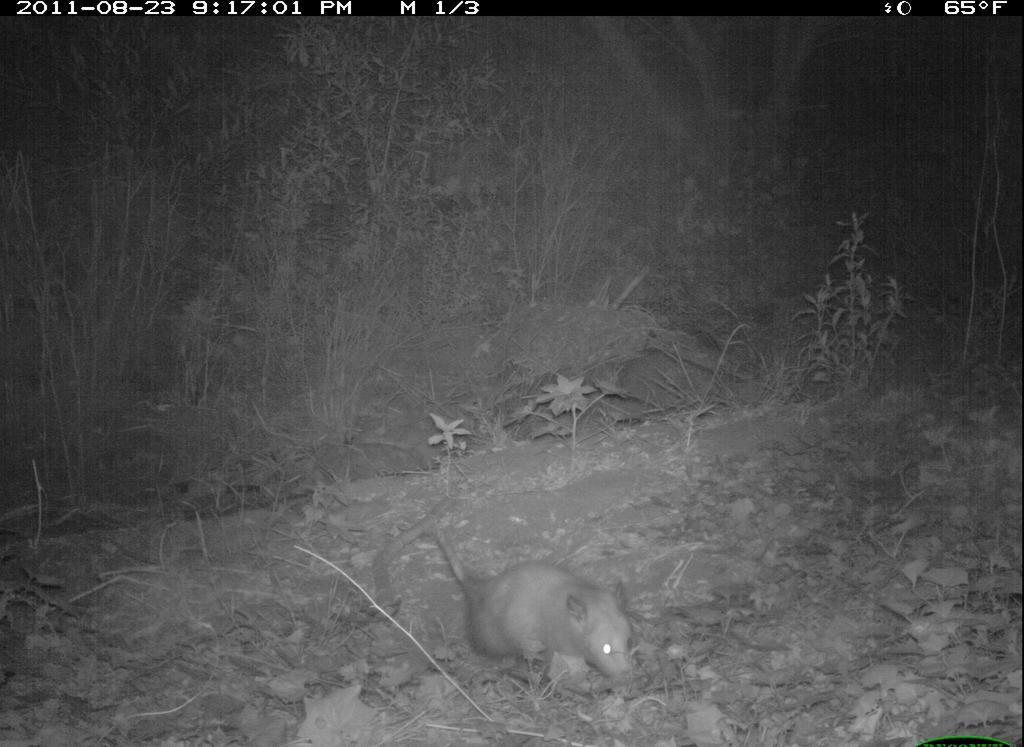opossum: (368, 502, 651, 703)
